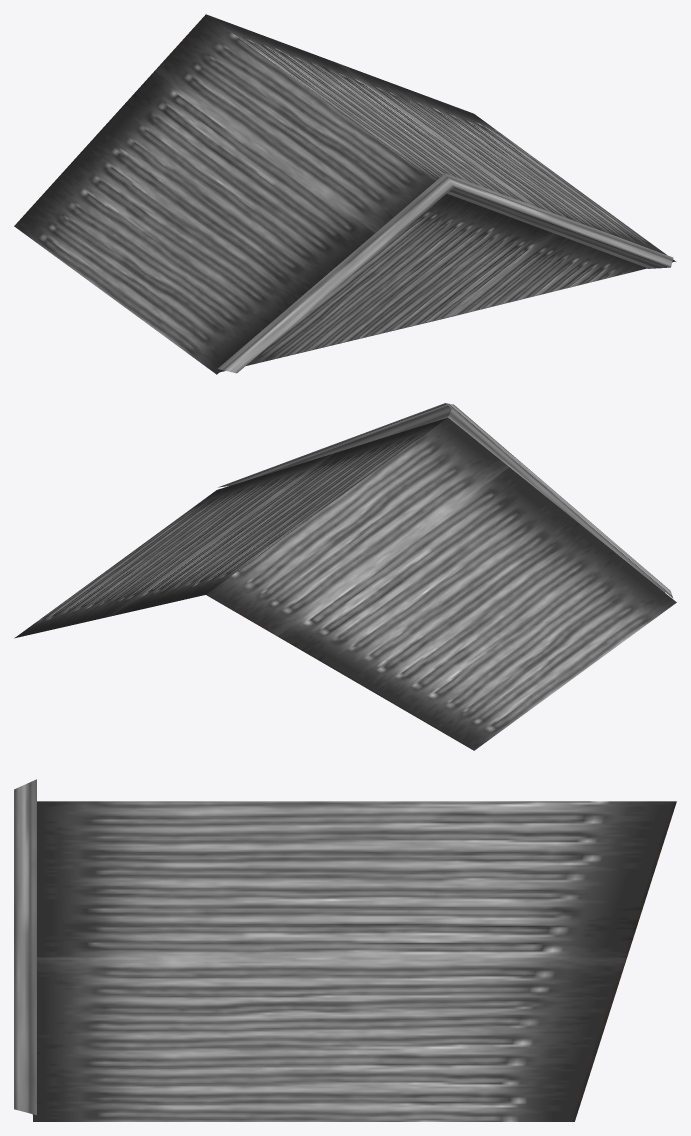
Rendered from Dach_Wellblech_763.glb.
3 views of the same model, one above another, from view 1: azimuth 30°, elevation 25°; view 2: azimuth 150°, elevation 25°; view 3: azimuth 270°, elevation 25° (orthographic). The views are drawn at different scales.
Parts seen in each view (by area): view 1: pCylinderShape100, pCubeShape75, pTorusShape6; view 2: pCylinderShape100, pTorusShape6; view 3: pCylinderShape100, pTorusShape6.
Boxes of the visible parts, bbox=[...] form: pCylinderShape100: bbox=[14, 14, 675, 374]; pCubeShape75: bbox=[220, 193, 674, 372]; pTorusShape6: bbox=[217, 173, 673, 373]; pCylinderShape100: bbox=[14, 417, 676, 750]; pTorusShape6: bbox=[218, 403, 673, 598]; pCylinderShape100: bbox=[32, 801, 676, 1121]; pTorusShape6: bbox=[14, 779, 36, 1115].
Size of the model in its own units: 1.04 by 0.3133 by 0.9689.
Materials: 3 (3 with a texture image).
